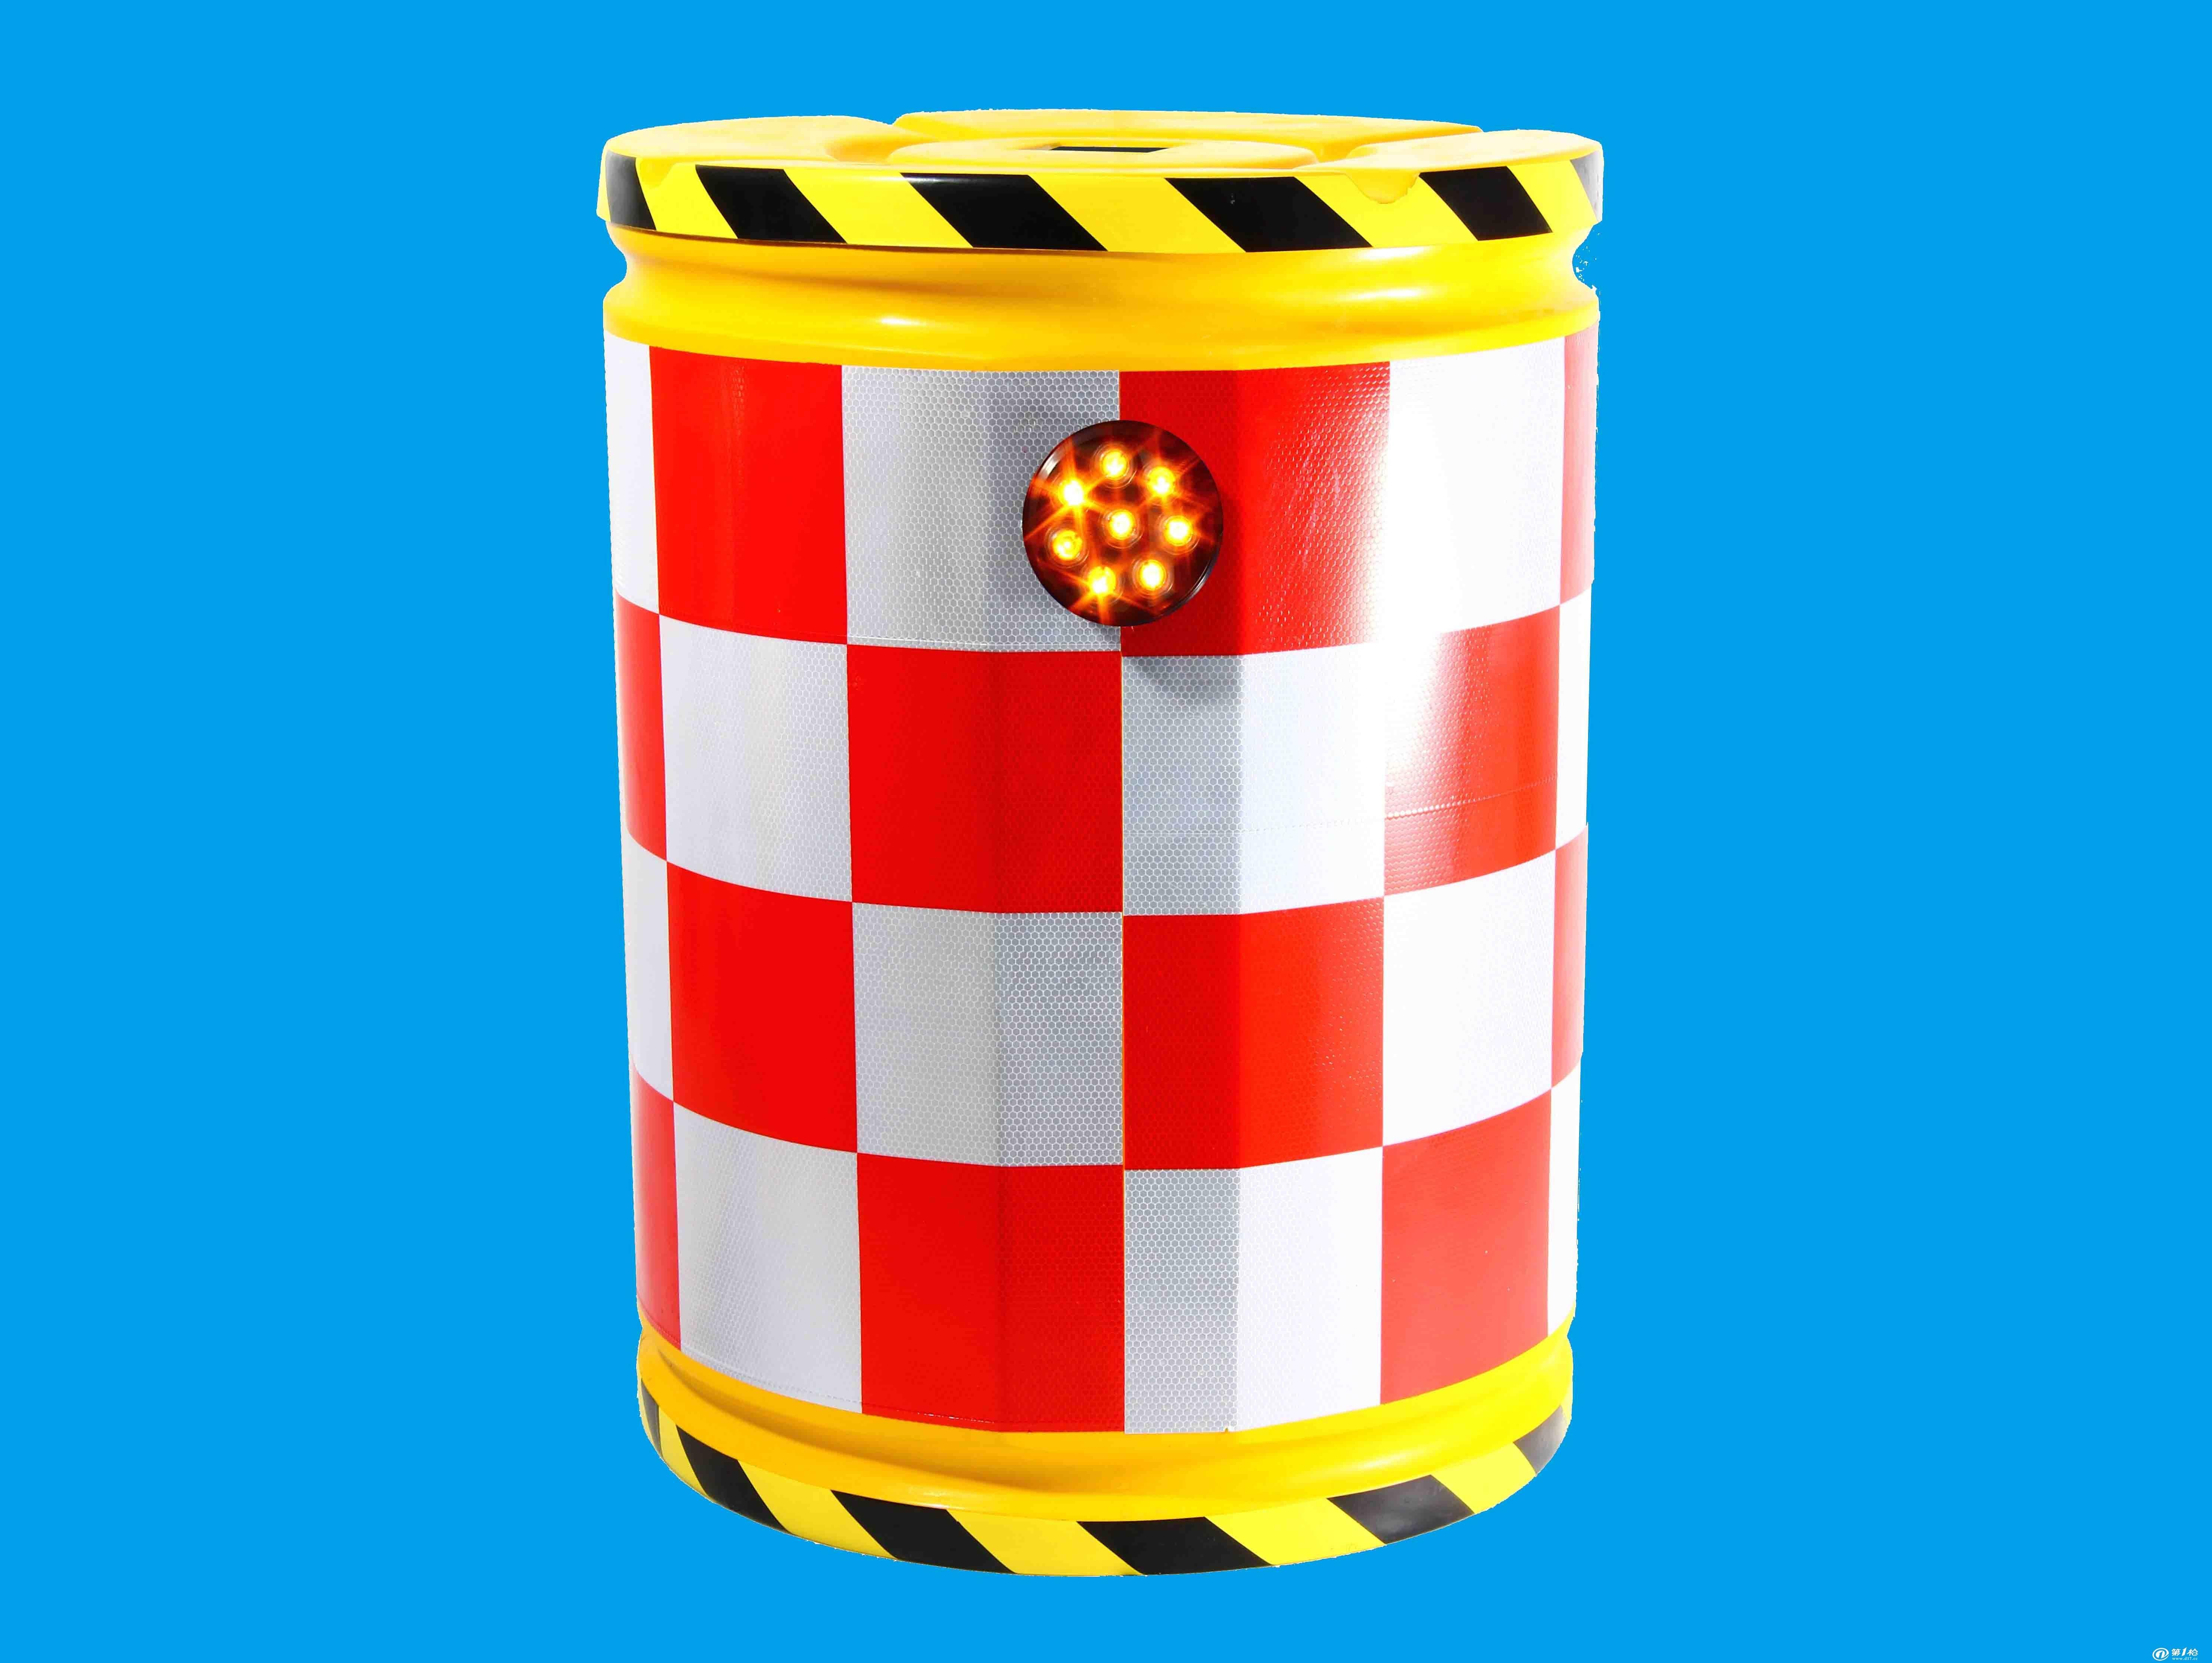sign: (519, 33, 1611, 1600)
